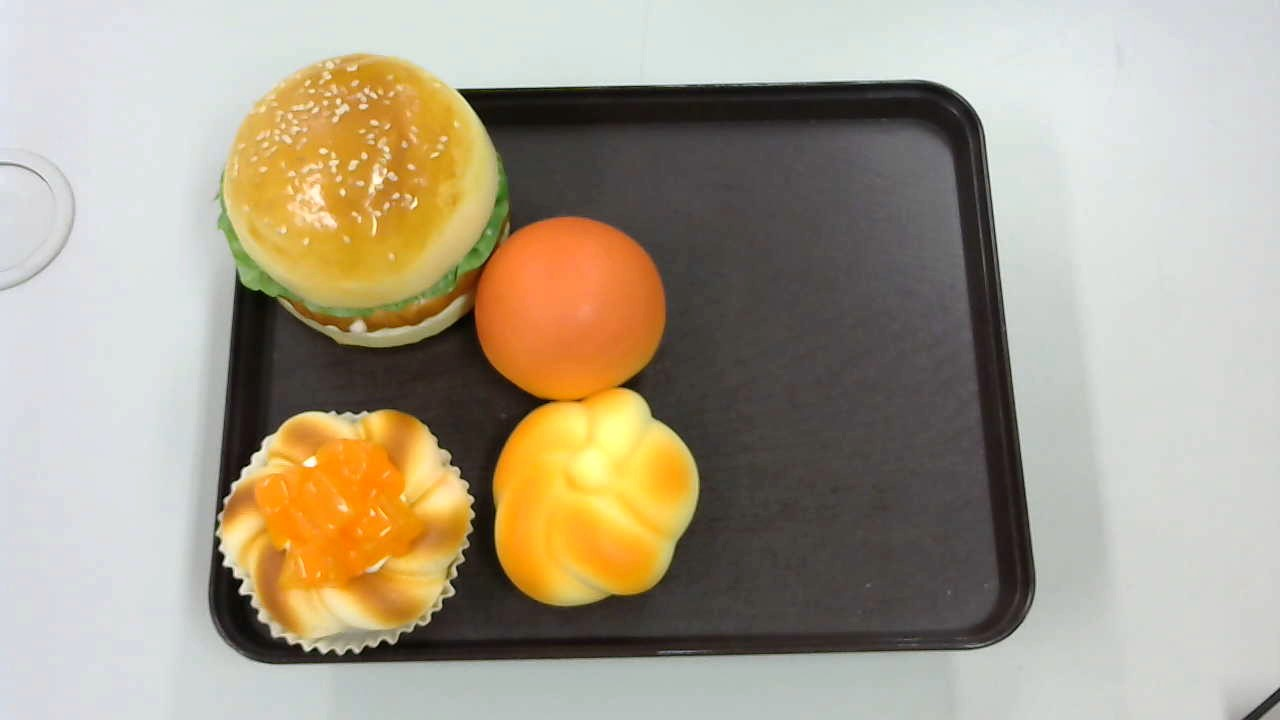bun: (475, 214, 668, 401)
hamburger: (217, 53, 511, 350)
mango tart: (215, 410, 472, 652)
twist bread: (492, 386, 702, 608)
